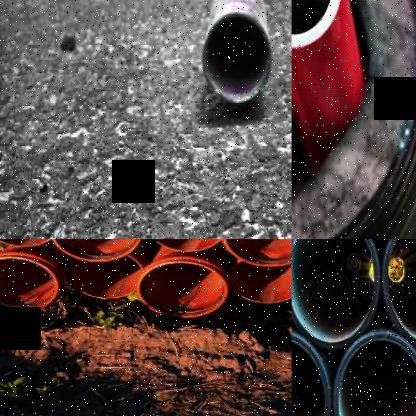pipe: (292, 239, 375, 345), (203, 10, 272, 105), (337, 336, 416, 416), (136, 261, 228, 318), (381, 239, 416, 350), (68, 254, 142, 300), (0, 255, 58, 313), (291, 336, 326, 416), (228, 262, 292, 304), (291, 0, 343, 49), (50, 239, 141, 262), (223, 239, 292, 267), (148, 239, 225, 251)
